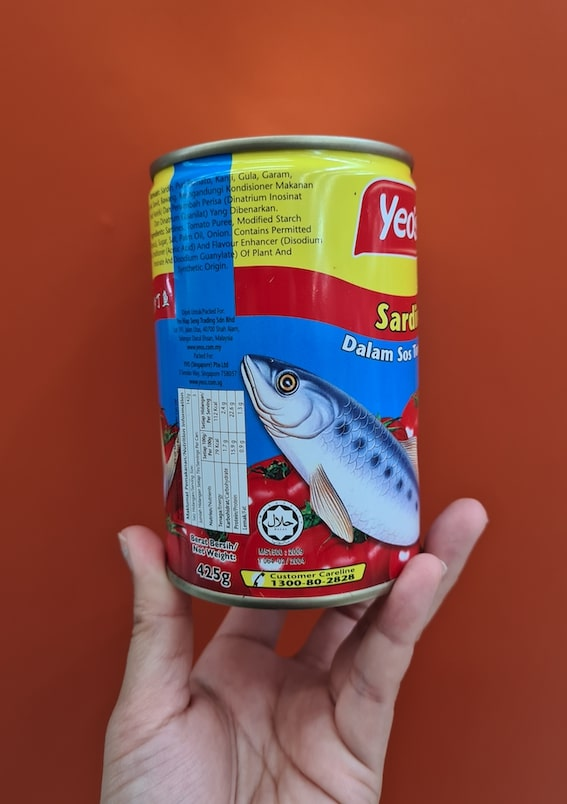Halal: (258, 501, 304, 547)
